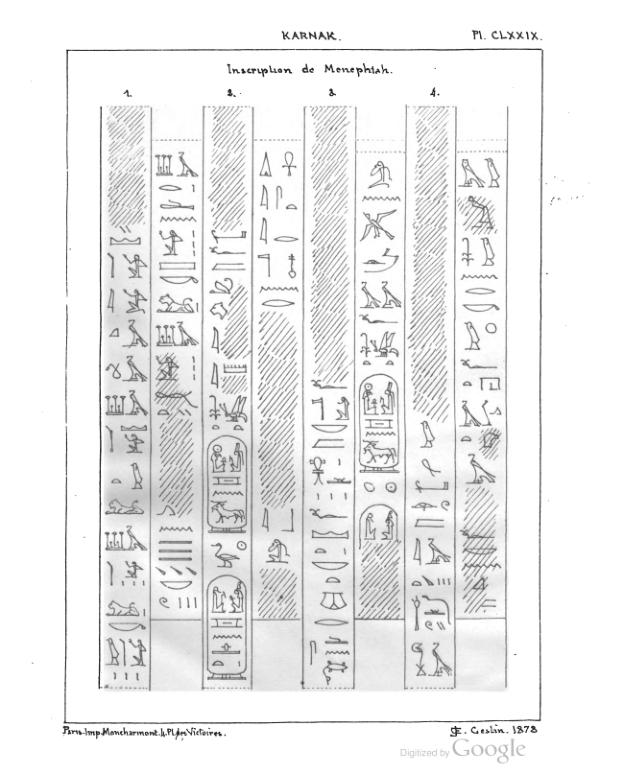circle: (205, 573, 249, 683), (204, 434, 249, 536), (358, 372, 402, 476), (357, 502, 400, 557)
